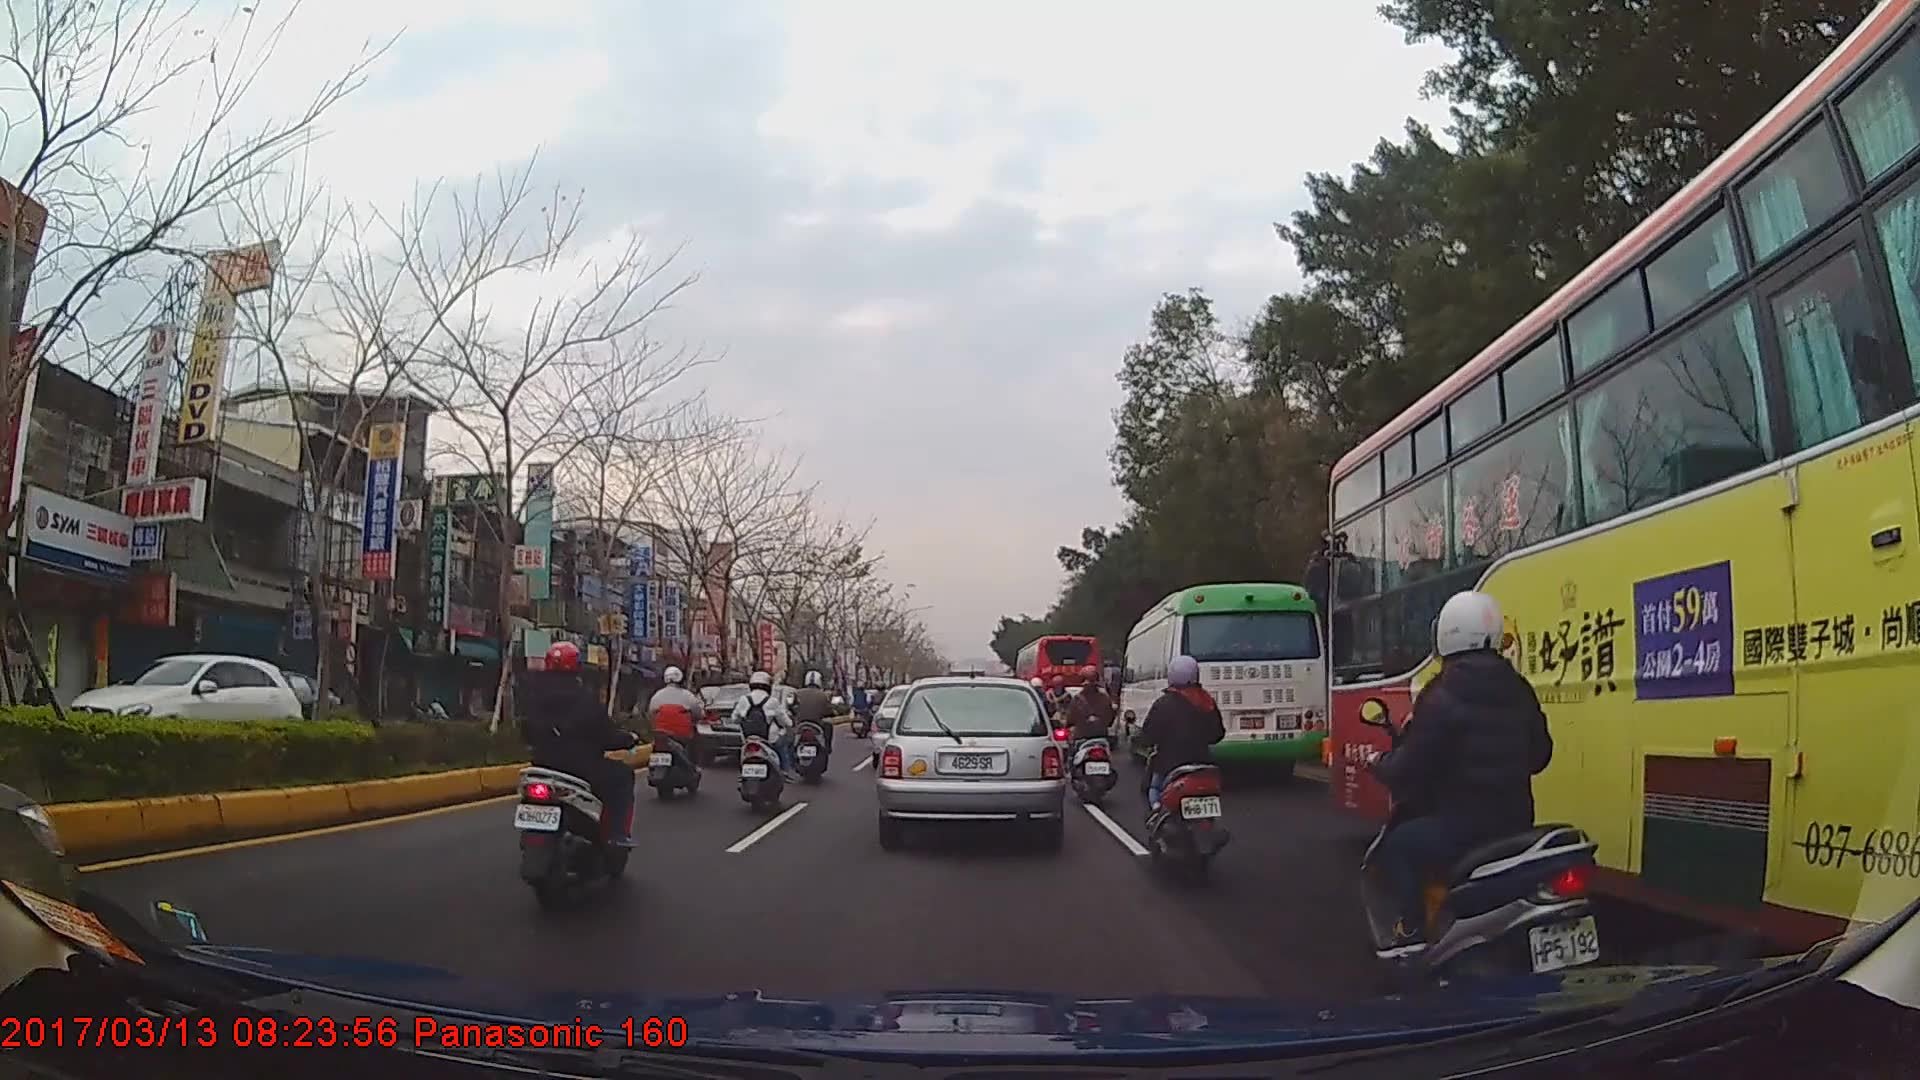rider: (1357, 588, 1613, 989), (513, 637, 635, 911), (1139, 651, 1240, 890), (731, 670, 791, 813), (646, 666, 710, 803), (1064, 666, 1117, 794), (790, 670, 837, 785), (851, 682, 873, 722)
vehicle: (1324, 0, 1920, 979), (1117, 582, 1326, 778), (878, 673, 1062, 844), (61, 649, 306, 764), (1014, 629, 1102, 736), (693, 683, 789, 761)
